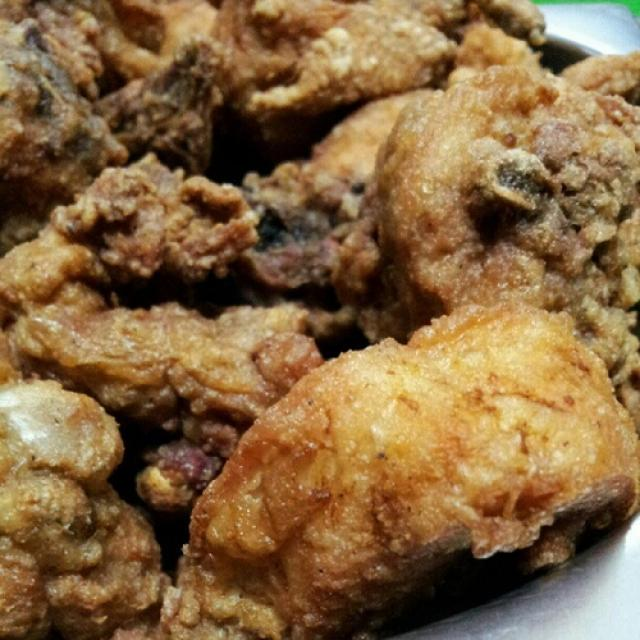鸡肉料理 含炸鸡: (8, 10, 627, 626)
